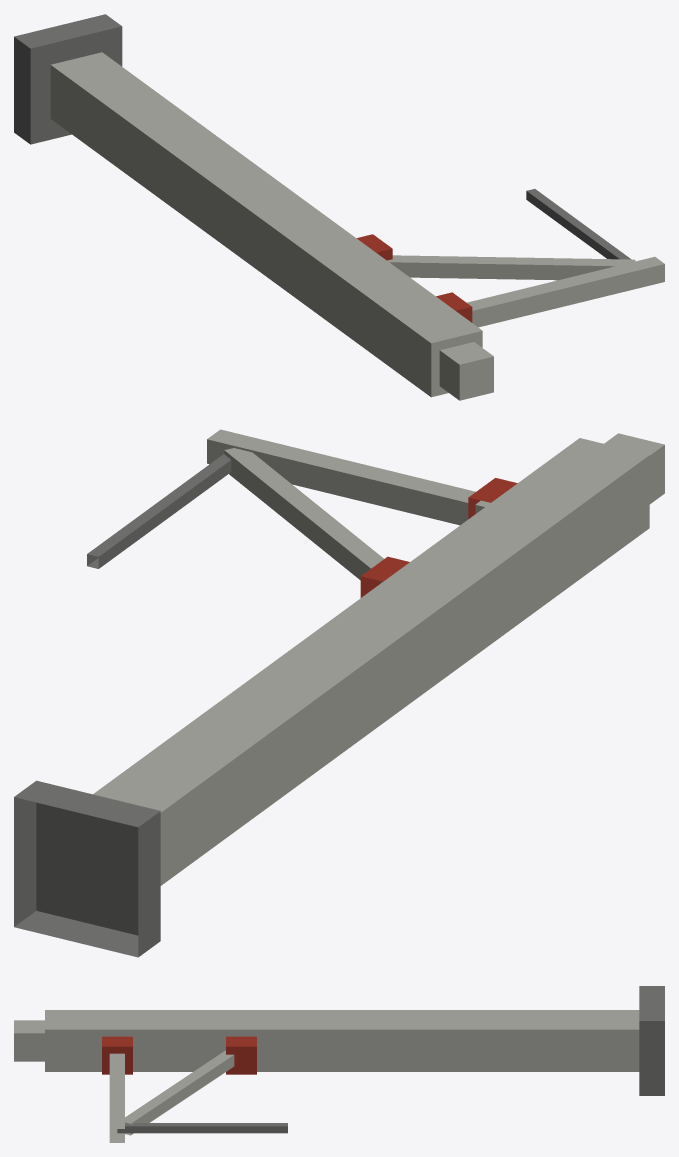
Rendered from pylon.glb.
3 renders of one model, top to bottom at view 1: azimuth 30°, elevation 25°; view 2: azimuth 150°, elevation 25°; view 3: azimuth 270°, elevation 25°, orthographic. The views are drawn at different scales.
Visible parts, largest first — view 1: catenary_pylon; view 2: catenary_pylon; view 3: catenary_pylon.
Part boxes in pixels (x1,y1,x2,y2): catenary_pylon: (14, 14, 664, 400); catenary_pylon: (14, 429, 664, 957); catenary_pylon: (14, 986, 664, 1142).
Size of the model in its own units: 5.15 by 1.6 by 12.6.
